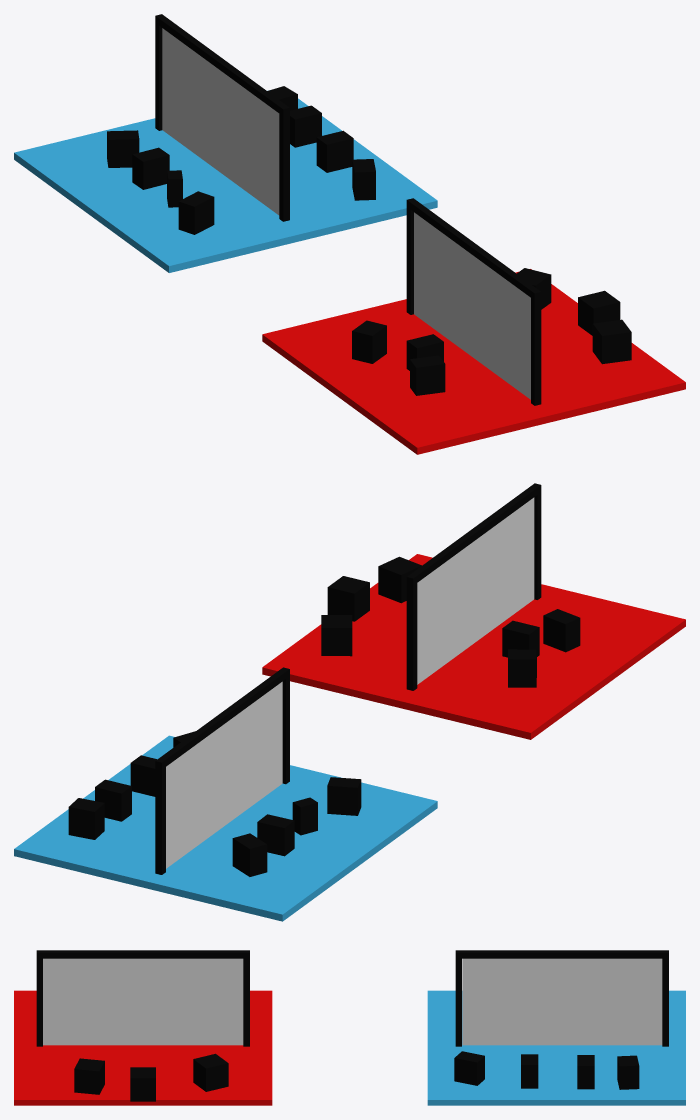
Rendered from PortalDemo.glb.
3 renders of one model, top to bottom at view 1: azimuth 30°, elevation 25°; view 2: azimuth 150°, elevation 25°; view 3: azimuth 270°, elevation 25°, orthographic. The views are drawn at different scales.
Visible parts, largest first — view 1: Cube, Cube.001, portal_0_b, portal_0_a, Cube.007, Cube.004, Cube.009, Cube.014, Cube.020, Cube.021, Cube.008, Cube.012 (+10 smaller); view 2: Cube, Cube.001, portal_0_a, portal_0_b, Cube.007, Cube.004, Cube.008, Cube.012, Cube.016, Cube.010, Cube.003, Cube.019 (+11 smaller); view 3: portal_0_a, portal_0_b, Cube.001, Cube, Cube.004, Cube.007, Cube.010, Cube.009, Cube.015, Cube.008, Cube.016, Cube.002 (+5 smaller).
Part boxes in pixels (bbox=[...]): Cube: bbox=[262, 269, 685, 454]; Cube.001: bbox=[14, 90, 437, 272]; portal_0_b: bbox=[162, 28, 279, 215]; portal_0_a: bbox=[414, 212, 530, 399]; Cube.007: bbox=[155, 14, 289, 116]; Cube.004: bbox=[406, 198, 541, 299]; Cube.009: bbox=[592, 319, 631, 364]; Cube.014: bbox=[316, 130, 353, 172]; Cube.020: bbox=[178, 191, 214, 234]; Cube.021: bbox=[132, 147, 169, 189]; Cube.008: bbox=[578, 290, 620, 335]; Cube.012: bbox=[410, 355, 445, 395]; Cube: bbox=[262, 554, 685, 739]; Cube.001: bbox=[14, 735, 437, 921]; portal_0_a: bbox=[417, 497, 534, 684]; portal_0_b: bbox=[166, 681, 282, 868]; Cube.007: bbox=[155, 667, 289, 768]; Cube.004: bbox=[406, 483, 541, 582]; Cube.008: bbox=[327, 576, 369, 621]; Cube.012: bbox=[543, 609, 580, 652]; Cube.016: bbox=[68, 798, 104, 839]; Cube.010: bbox=[321, 615, 352, 656]; Cube.003: bbox=[406, 579, 417, 690]; Cube.019: bbox=[232, 833, 267, 876]; portal_0_a: bbox=[43, 958, 243, 1045]; portal_0_b: bbox=[462, 958, 662, 1045]; Cube.001: bbox=[427, 990, 685, 1105]; Cube: bbox=[14, 990, 272, 1105]; Cube.004: bbox=[36, 950, 249, 958]; Cube.007: bbox=[455, 950, 668, 958]; Cube.010: bbox=[193, 1053, 228, 1091]; Cube.009: bbox=[74, 1058, 104, 1094]; Cube.015: bbox=[454, 1051, 484, 1085]; Cube.008: bbox=[130, 1067, 155, 1101]; Cube.016: bbox=[617, 1055, 639, 1089]; Cube.002: bbox=[36, 956, 42, 1046].
Size of the model in its own units: 20.31 by 8.5 by 52.
